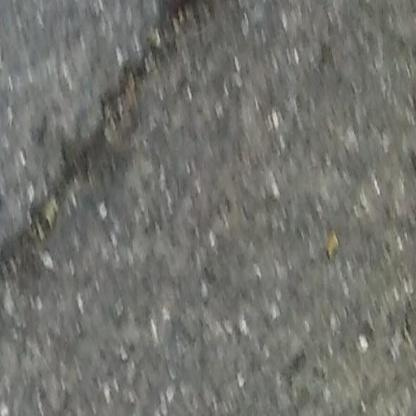Cracks: (0, 0, 237, 310)
